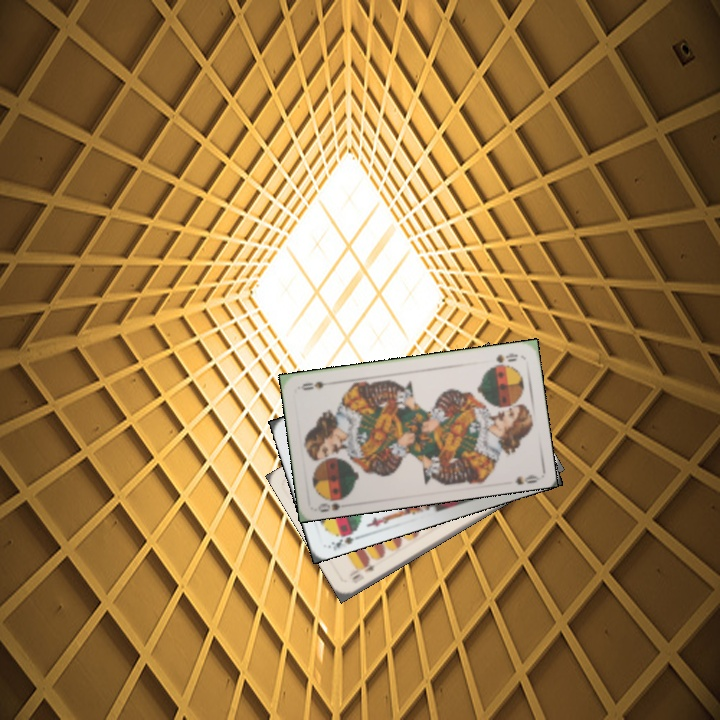E10: (347, 559, 377, 586)
SK: (324, 524, 364, 551)
SO: (314, 491, 352, 514), (490, 349, 520, 368)
